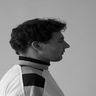ear: (26, 33, 49, 56)
